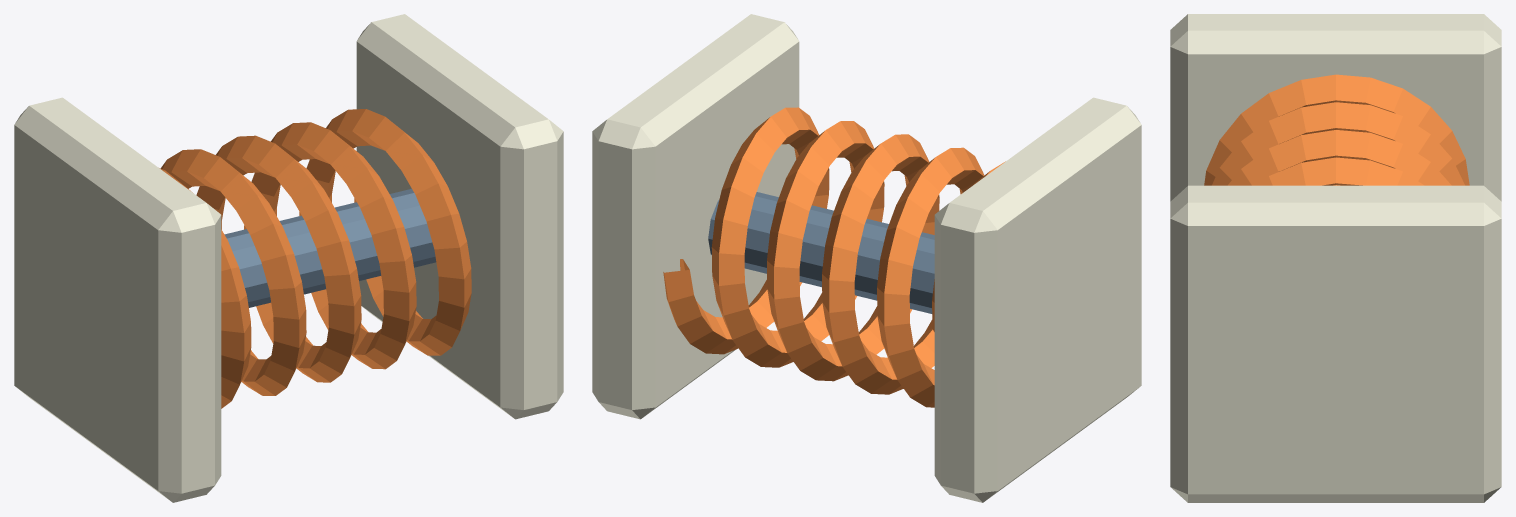
The model's file is spring.glb.
3 views of the same model, side by side, from view 1: azimuth 30°, elevation 25°; view 2: azimuth 150°, elevation 25°; view 3: azimuth 270°, elevation 25° (orthographic). The views are drawn at different scales.
Parts seen in each view (by area): view 1: Spring piston, Mechanical spring, Spring piston.001, Piston rod; view 2: Spring piston, Spring piston.001, Mechanical spring, Piston rod; view 3: Spring piston.001, Spring piston, Mechanical spring.
Part boxes in pixels (x1,y1,x2,y2): Spring piston: (14,97,221,502); Mechanical spring: (159,109,471,408); Spring piston.001: (356,14,563,419); Piston rod: (224,188,436,307); Spring piston: (934,97,1141,502); Spring piston.001: (592,14,799,419); Mechanical spring: (663,107,1005,407); Piston rod: (708,192,934,313); Spring piston.001: (1170,185,1501,502); Spring piston: (1170,14,1501,201); Mechanical spring: (1204,74,1469,185).
Bounding box in the file's own units: 1.09 × 0.75 × 0.75.
